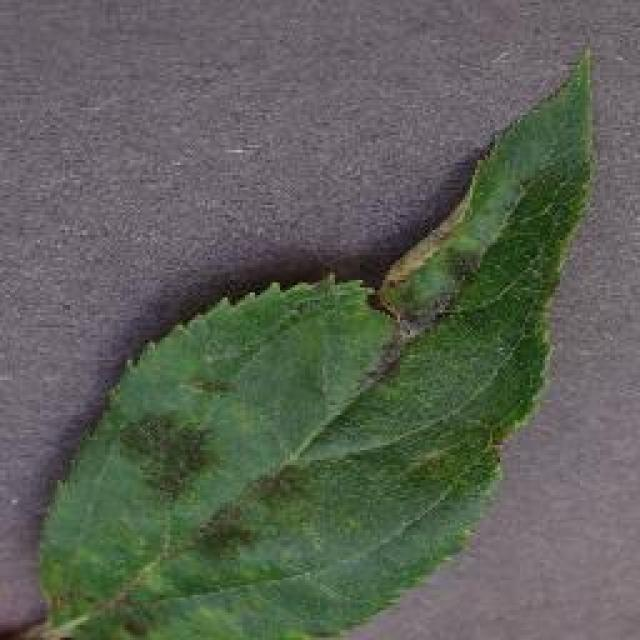apple scab disease: (10, 42, 600, 638)
